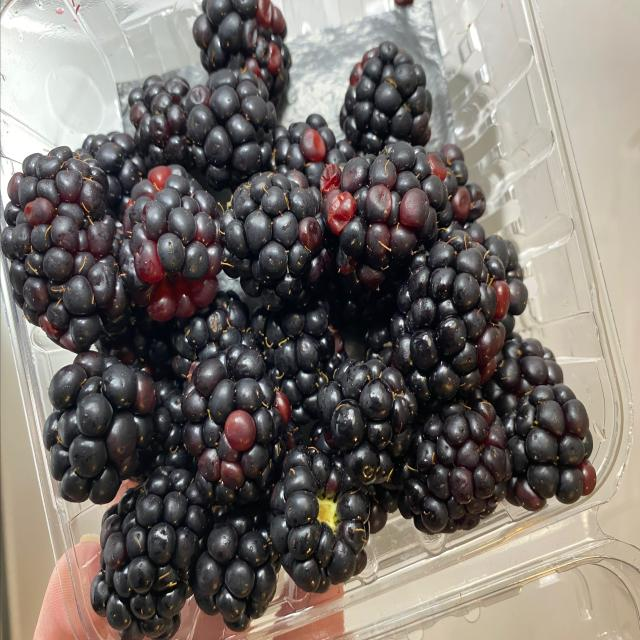blackberries: (10, 34, 589, 617)
